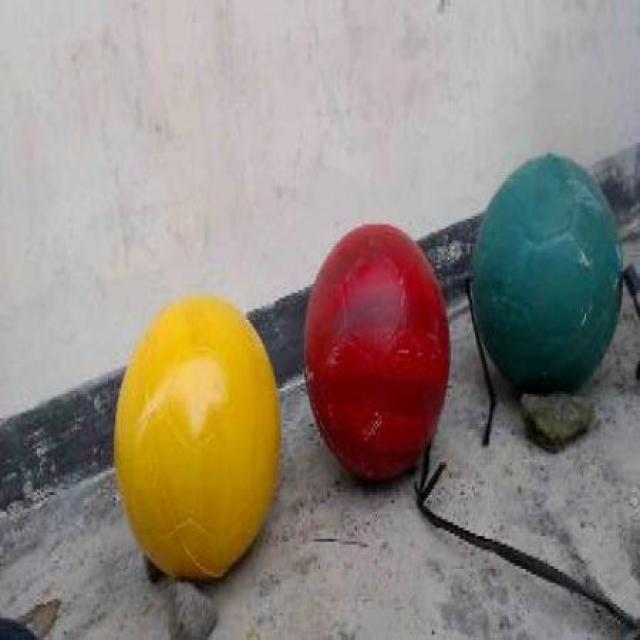buoy: (113, 292, 281, 582), (303, 222, 448, 483), (470, 152, 622, 396)
